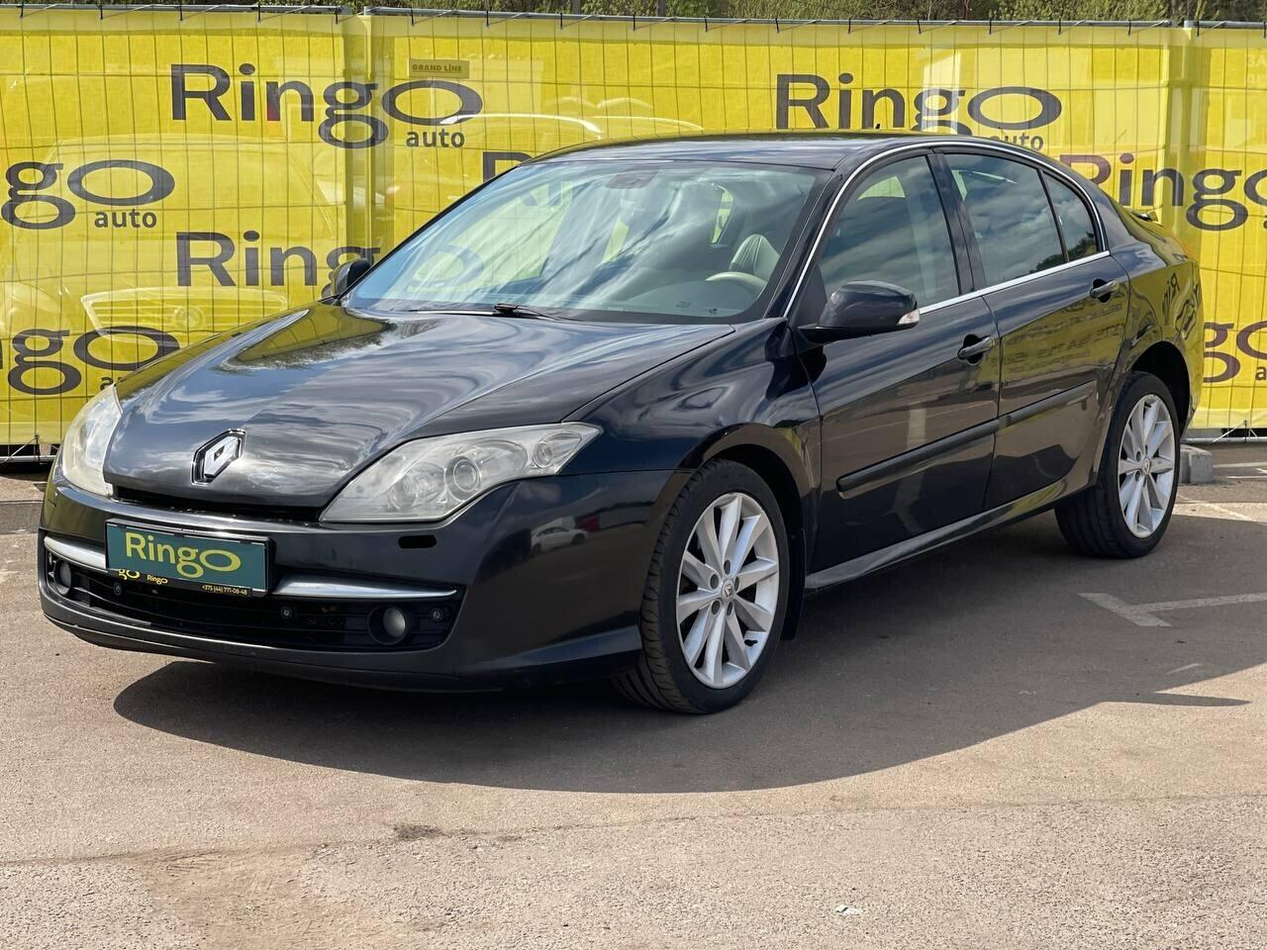Laguna_2007-2011: (36, 130, 1203, 712)
